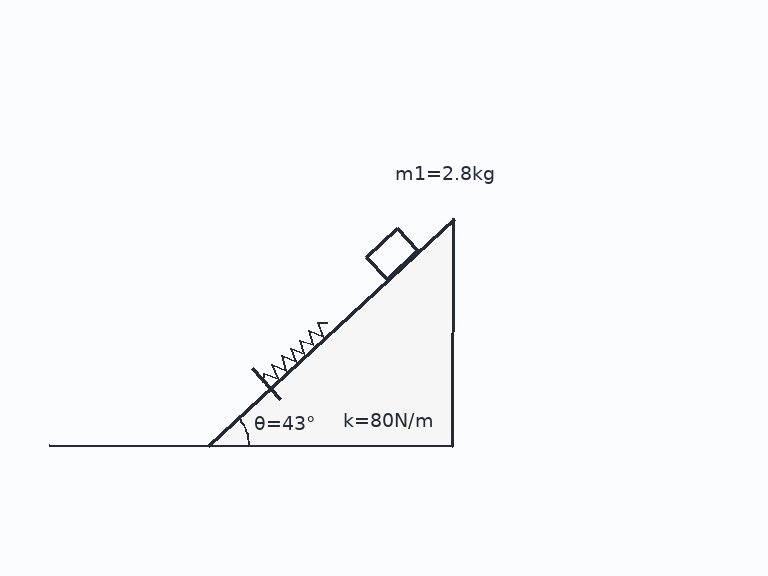block: (364, 226, 419, 281)
ramp: (207, 216, 455, 447)
spring: (262, 320, 329, 384)
